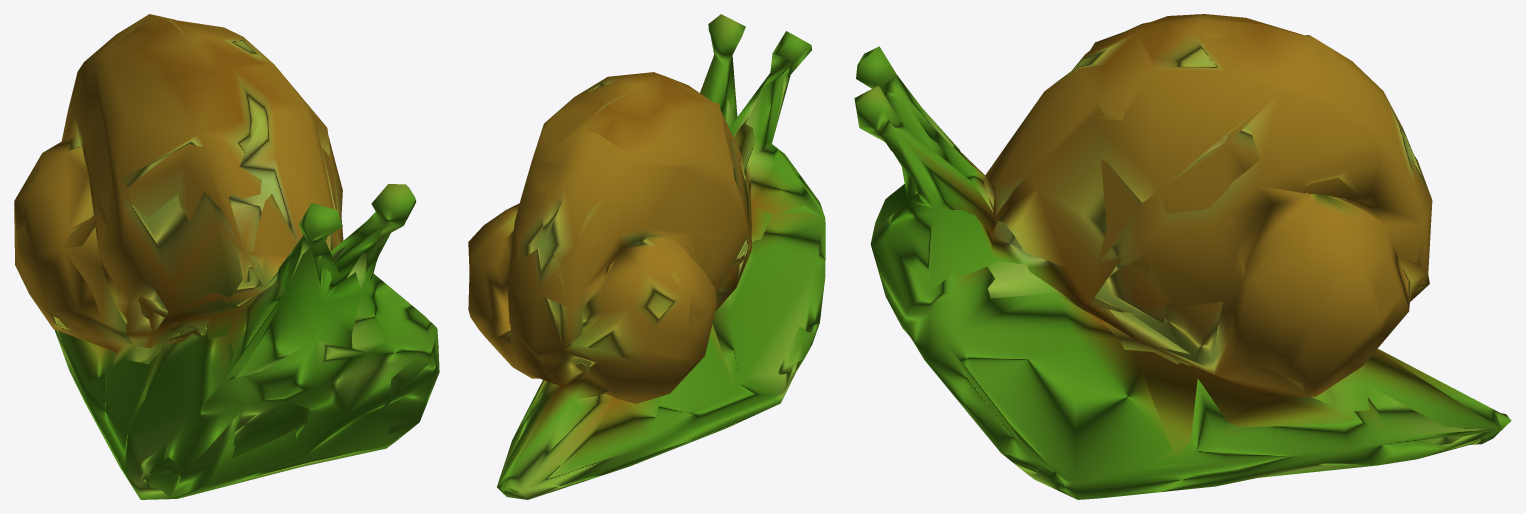
Rendered from gen3d-garden-snail-lod0.glb.
3 views of the same model, side by side, from view 1: azimuth 30°, elevation 25°; view 2: azimuth 150°, elevation 25°; view 3: azimuth 270°, elevation 25° (orthographic). The views are drawn at different scales.
Parts seen in each view (by area): view 1: part_0; view 2: part_0; view 3: part_0.
Part boxes in pixels (x1,y1,x2,y2): part_0: (14,14,439,499); part_0: (468,14,825,499); part_0: (854,14,1511,499).
Bounding box in the file's own units: 0.7032 × 0.9952 × 1.41.
